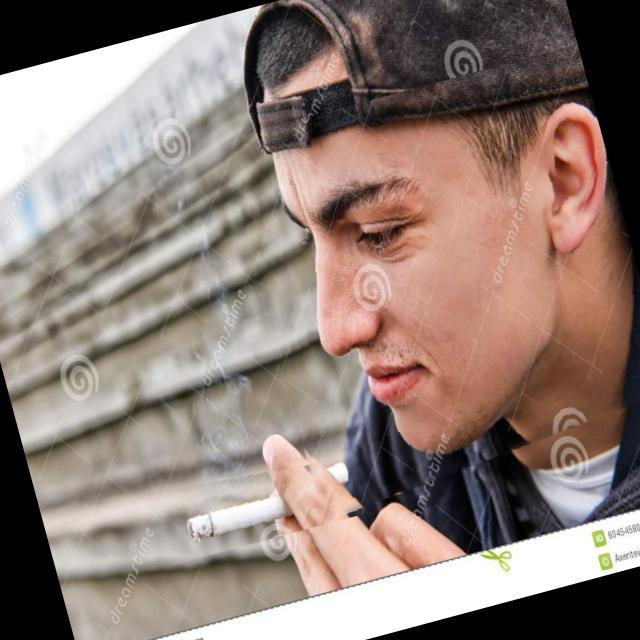cigarette: (150, 438, 373, 566)
